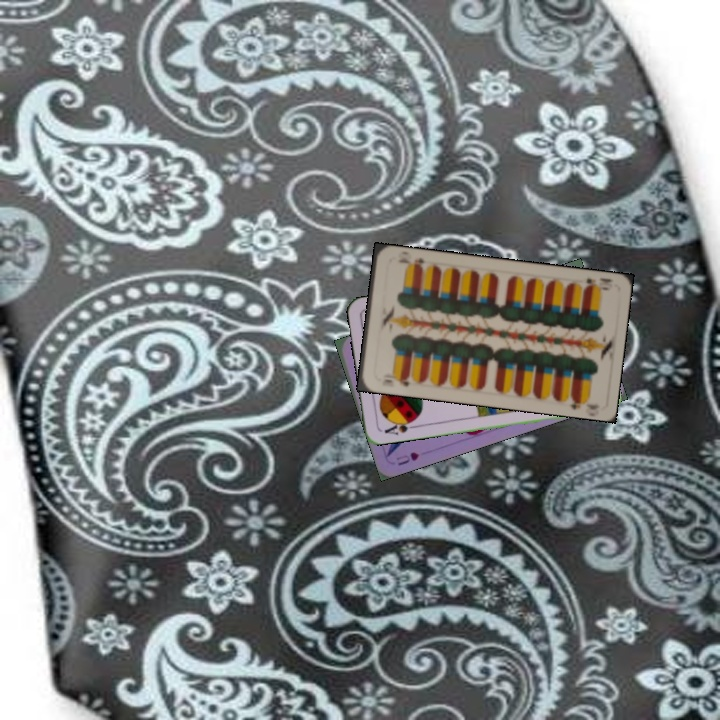E10: (579, 274, 616, 294), (379, 370, 412, 389)
HU: (392, 448, 421, 468)
SA: (380, 415, 419, 437)
